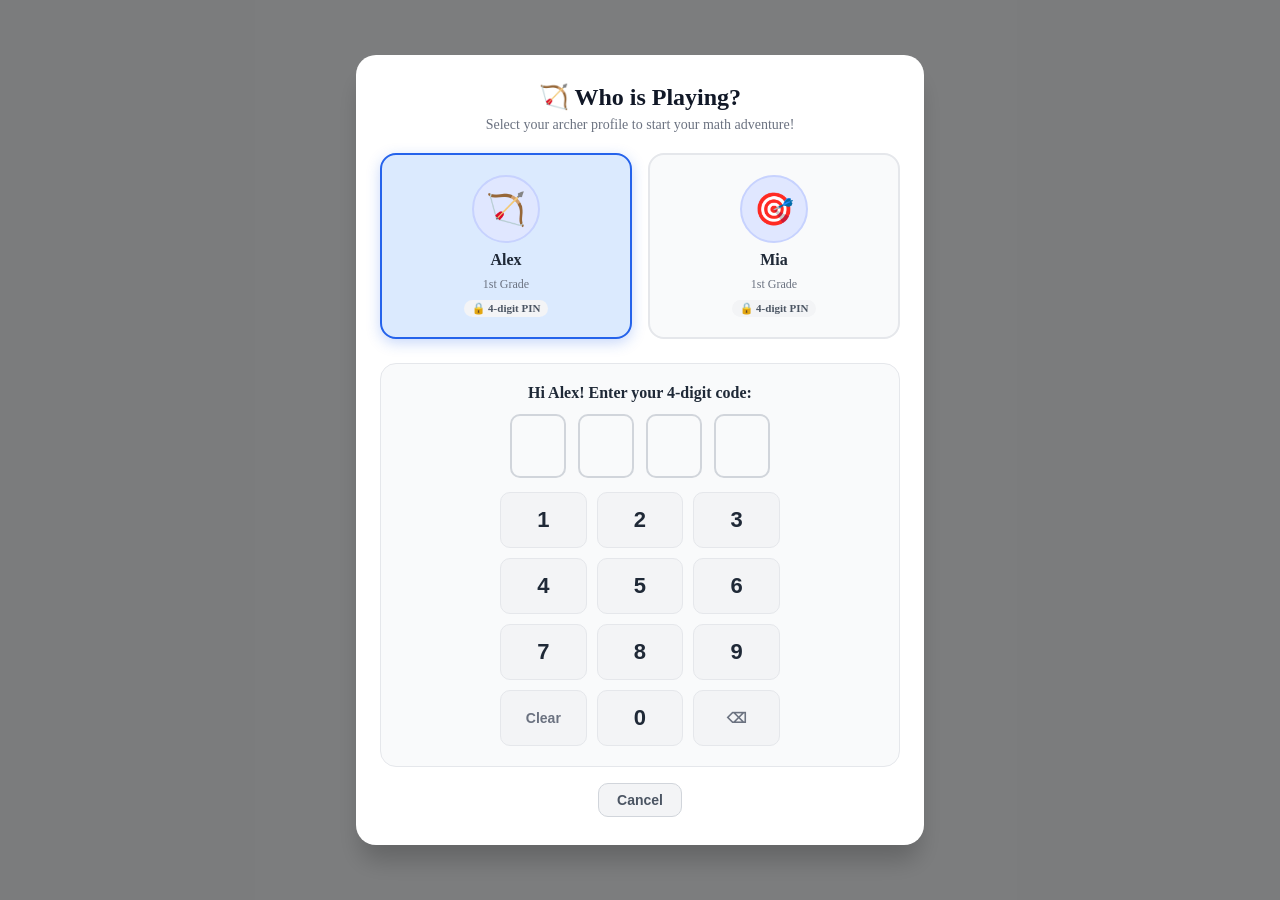
ChildProfilePicker Component (Task 7.1) › rejects entering Alex PIN (1234) for Mia (5678)
// Click on Mia's card
Click the element with test id "child-card-child_mia".
click(774, 246)  # box [648,153,900,339]
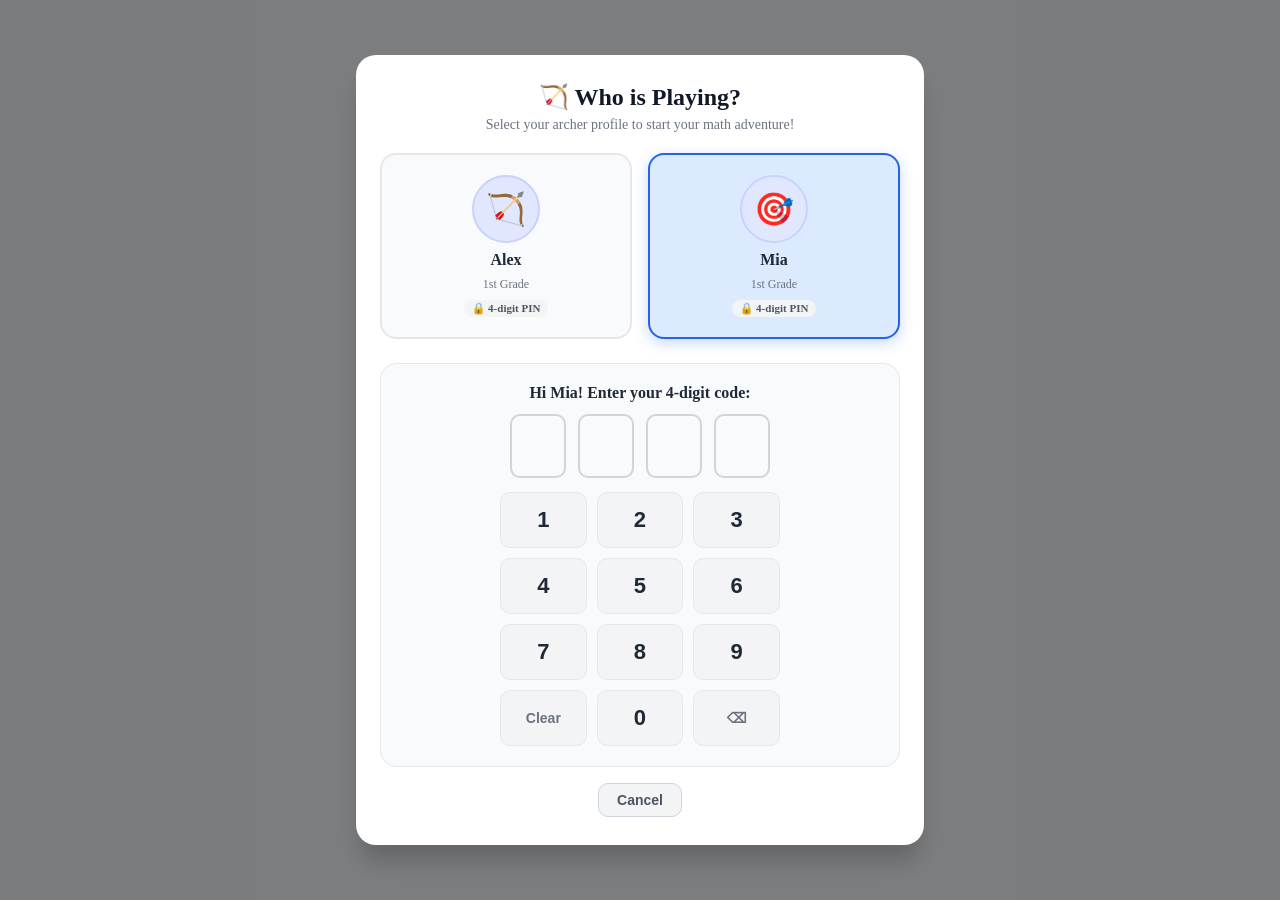
Expected: the element with test id "child-pin-section" is shown, [380,363,900,767]
Click the button with test id "child-keypad-1".
click(543, 520)  # box [500,492,587,548]
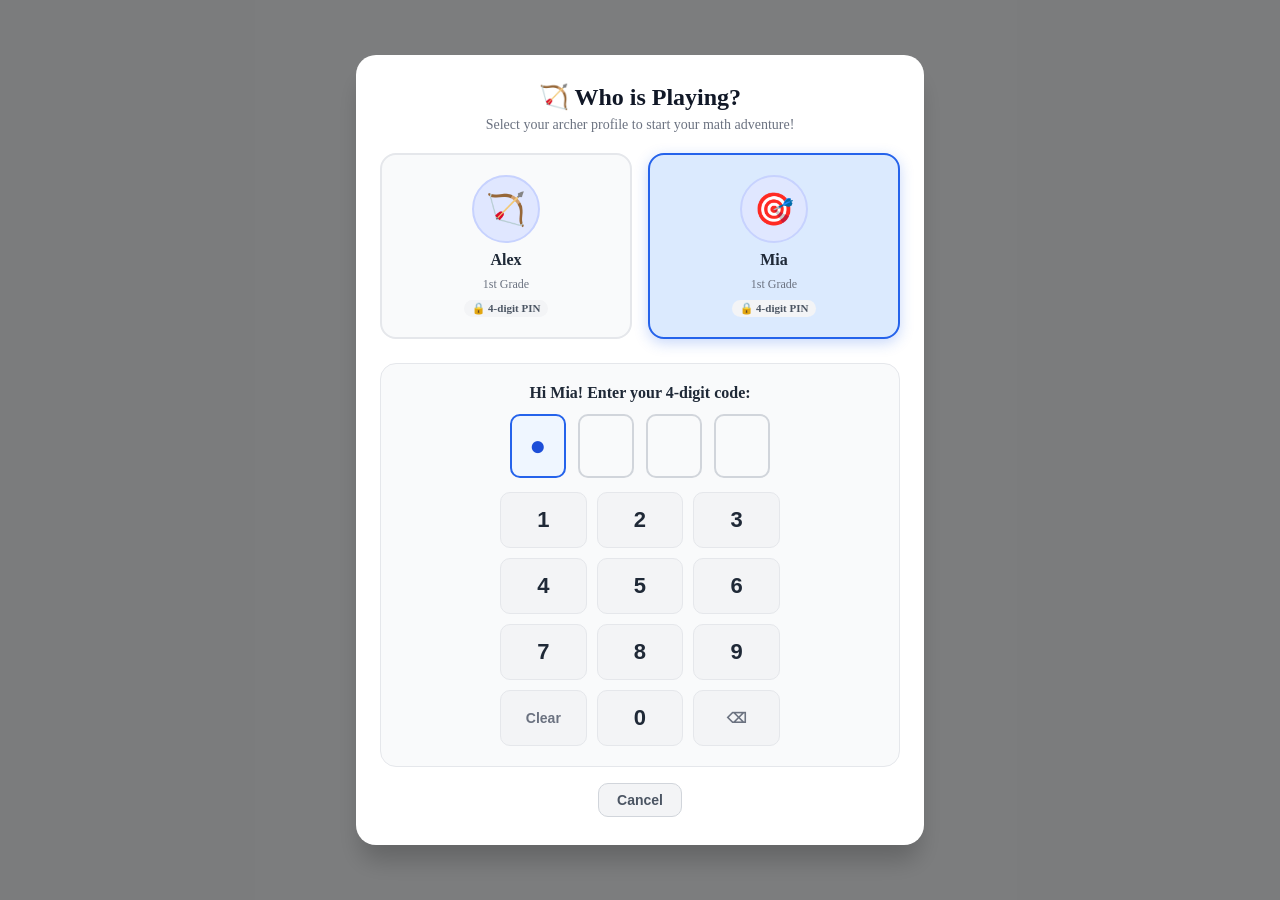
Click the button with test id "child-keypad-2".
click(640, 520)  # box [597,492,683,548]
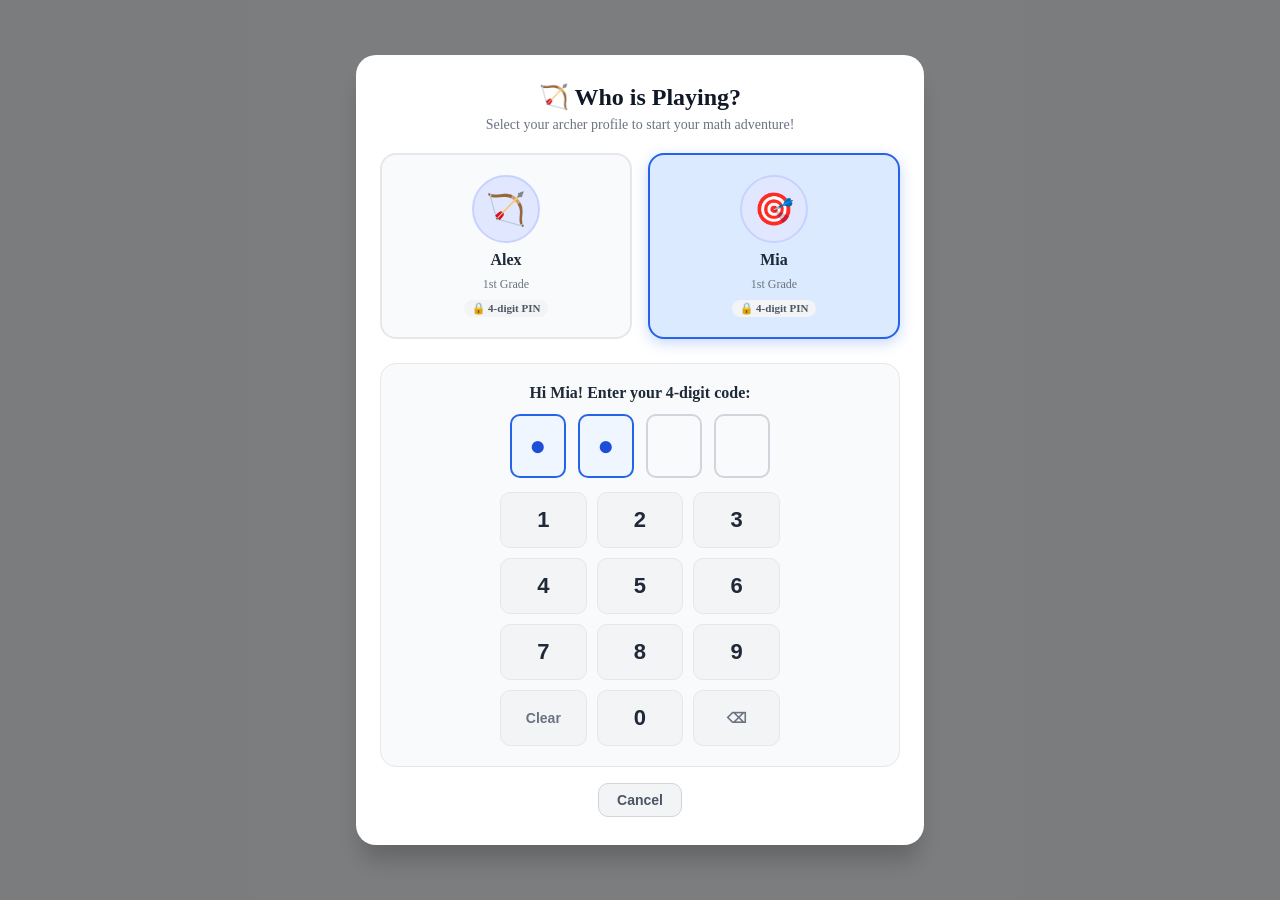
Click the button with test id "child-keypad-3".
click(737, 520)  # box [693,492,780,548]
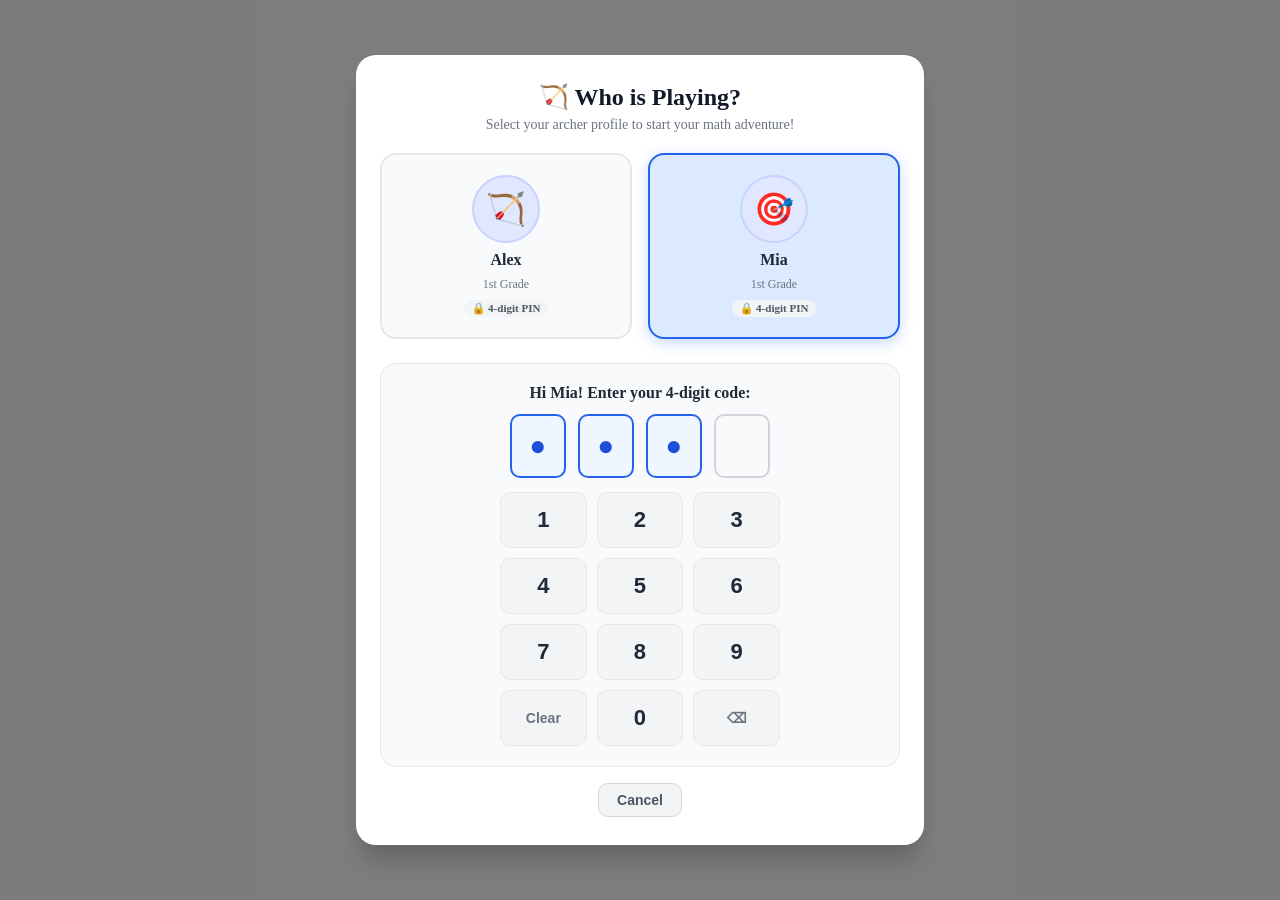
Click the button with test id "child-keypad-4".
click(543, 586)  # box [500,558,587,614]
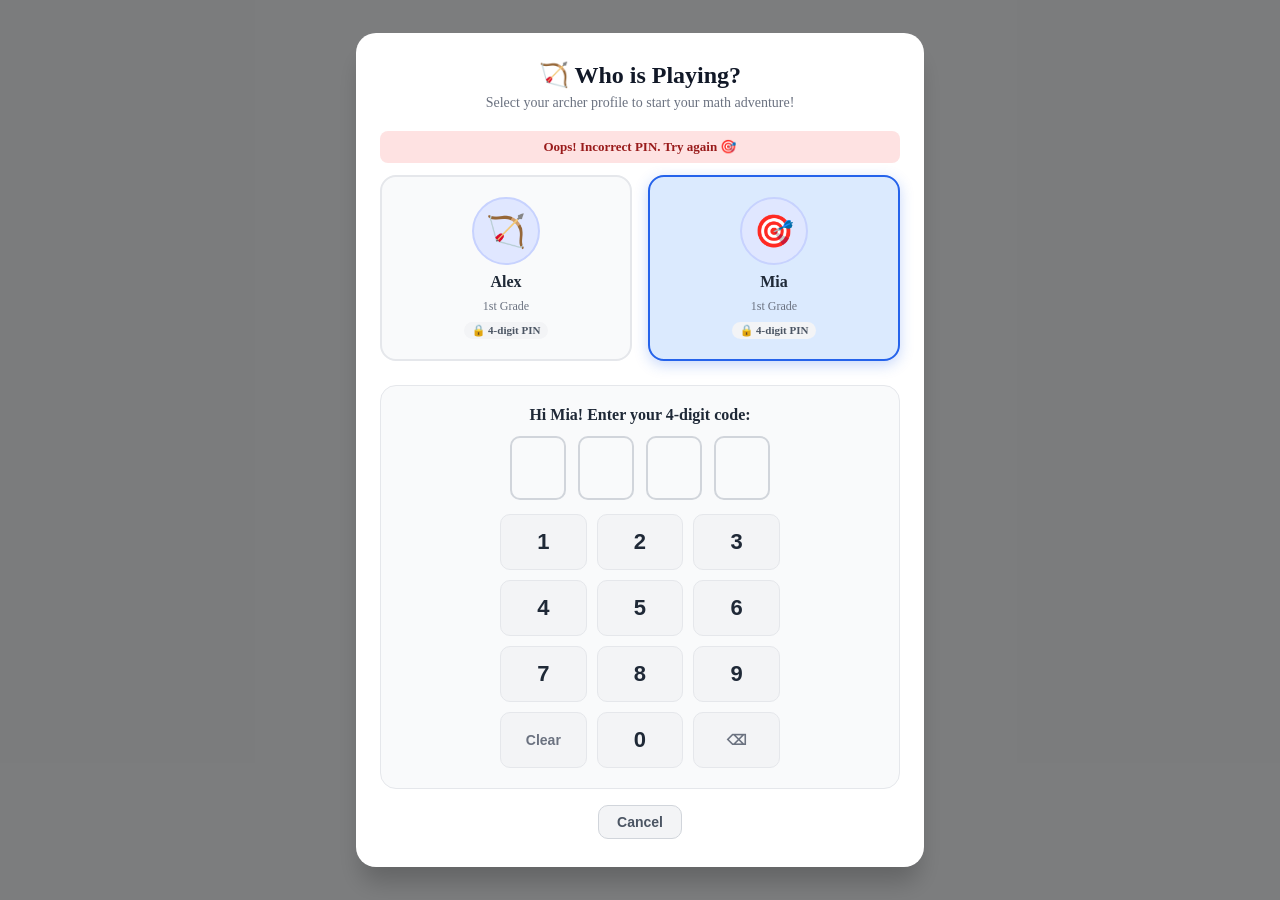
Result: the text "Oops! Incorrect PIN. Try again 🎯" is shown at [380,131,900,163]
Result: the text with test id "child-picker-error" shows "Incorrect PIN" at [543,139,737,154]
